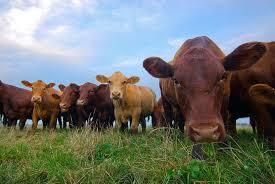cow: (142, 36, 267, 146), (96, 70, 157, 132), (20, 79, 68, 131), (69, 82, 109, 131), (0, 80, 36, 129), (58, 83, 79, 131)
